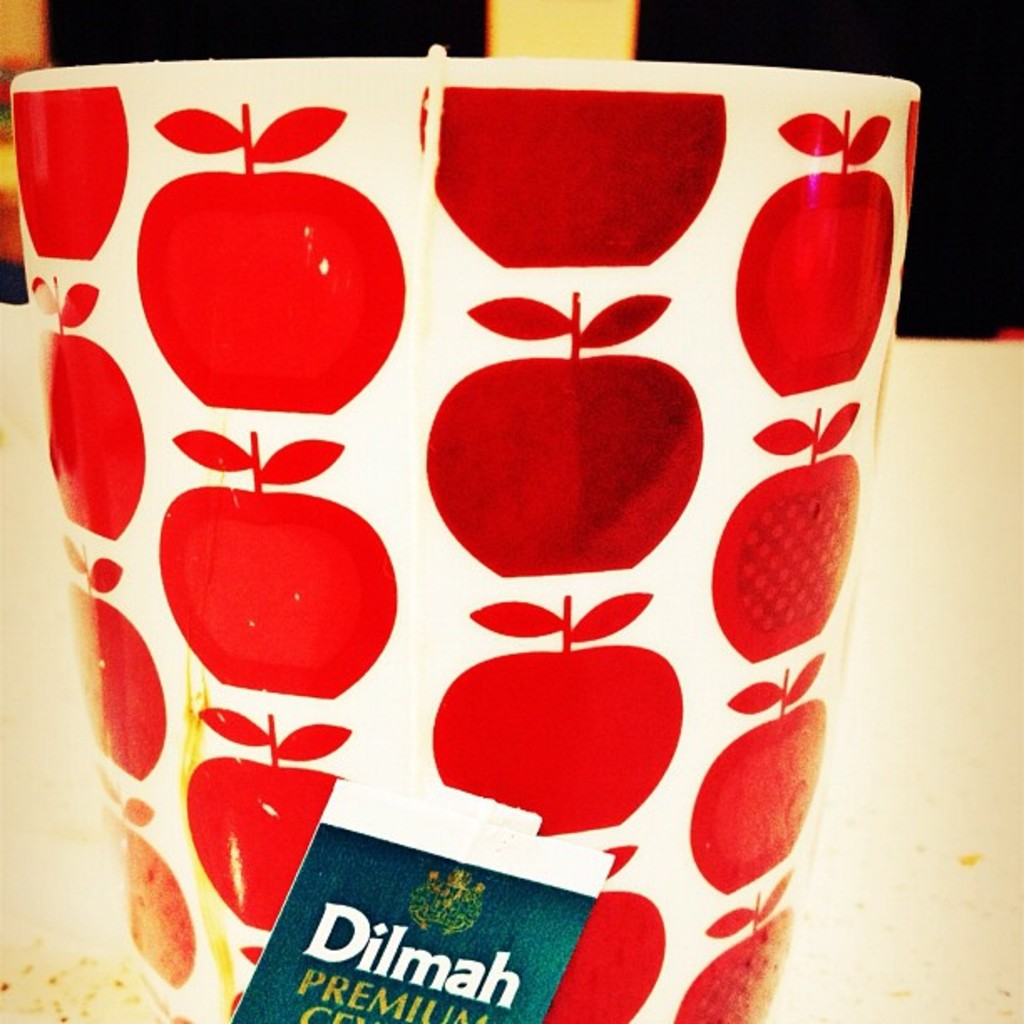Apple: (8, 81, 893, 1022), (133, 90, 404, 413)
